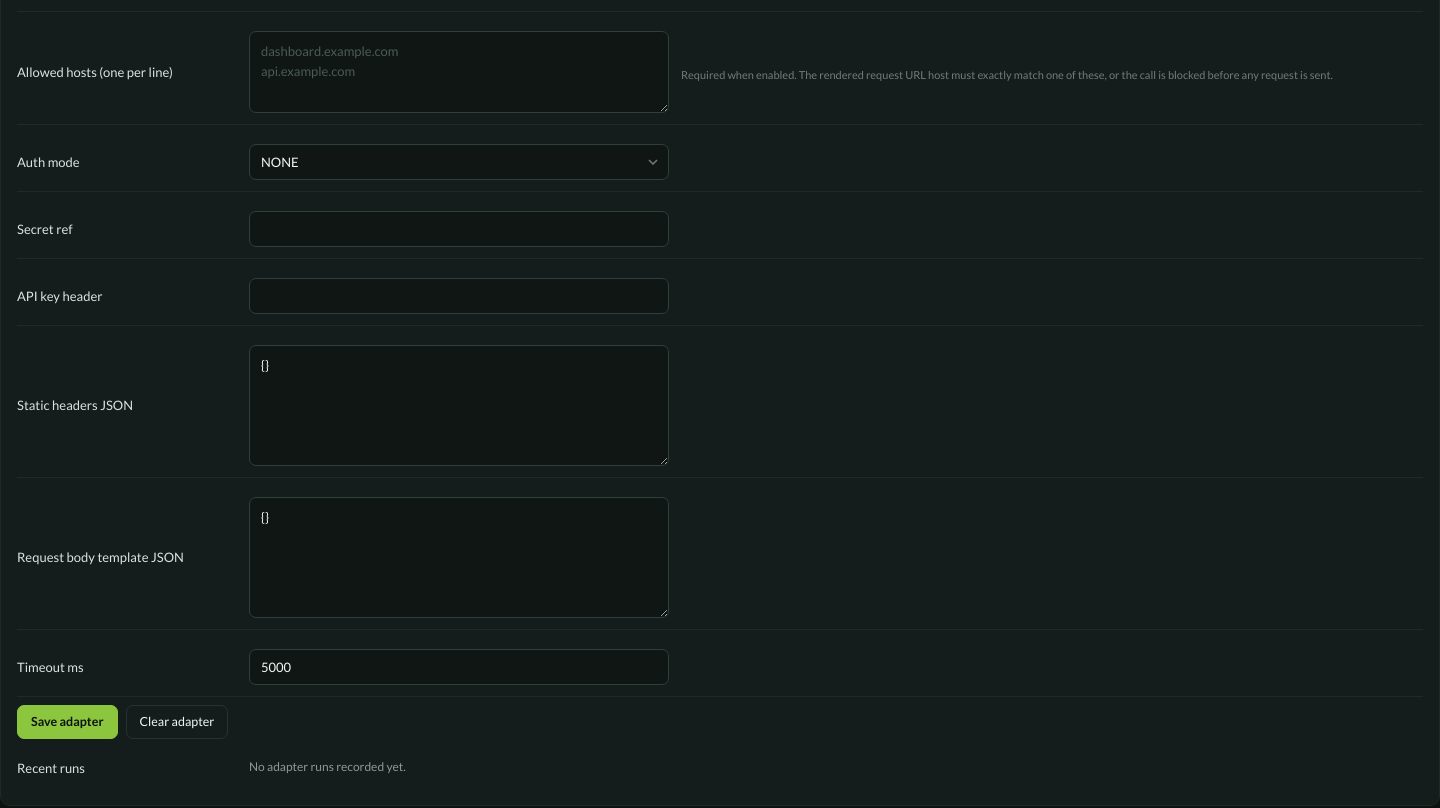
Test case: Tools › blocks invalid adapter headers JSON before save
(page scrolled)
Replace the text in the text box labelled "Static headers JSON" with "[1,2,3]" at (459, 406), box top-left (249, 345), bottom-right (669, 466)
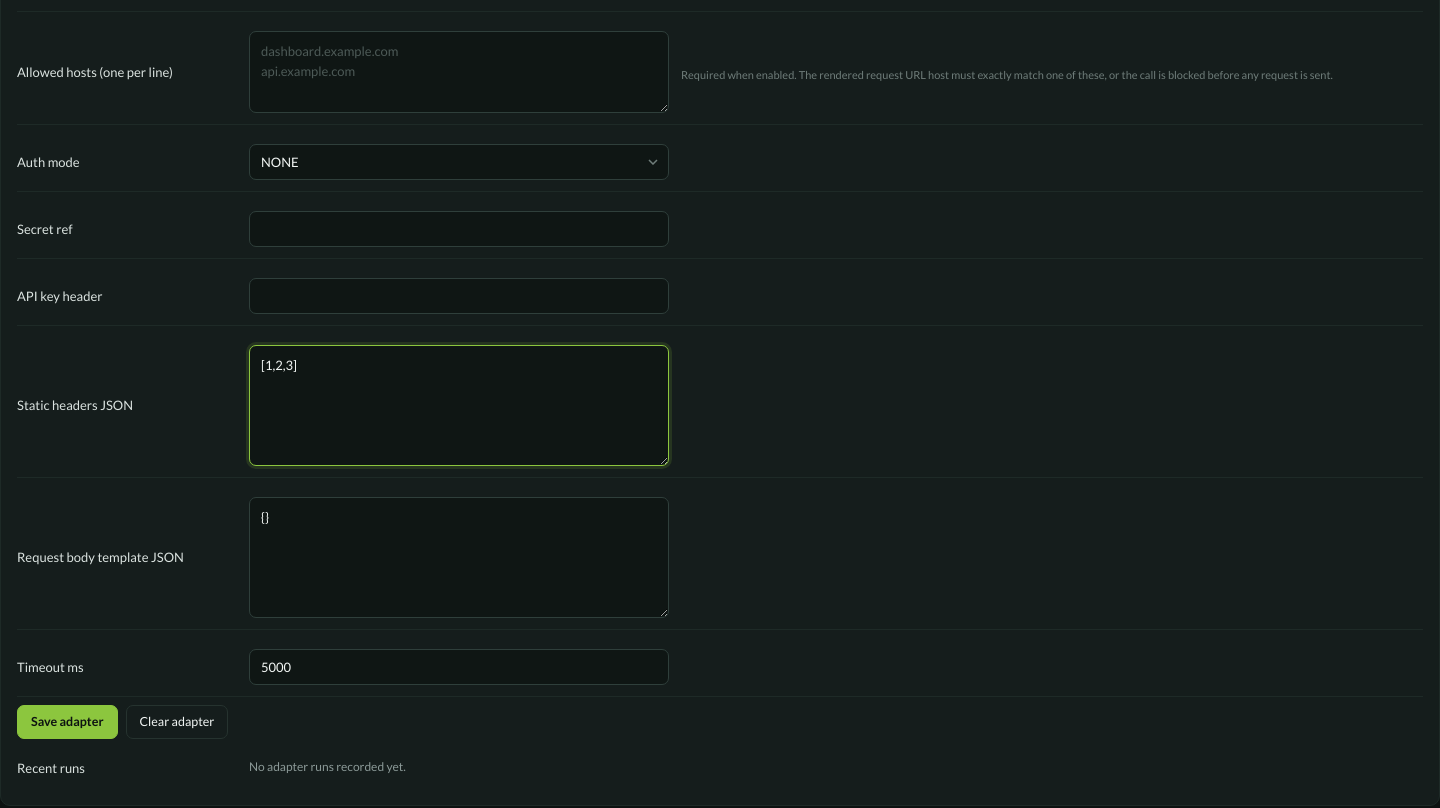
Click the button "Save adapter" at (67, 722), box top-left (17, 705), bottom-right (118, 739)
(page scrolled)
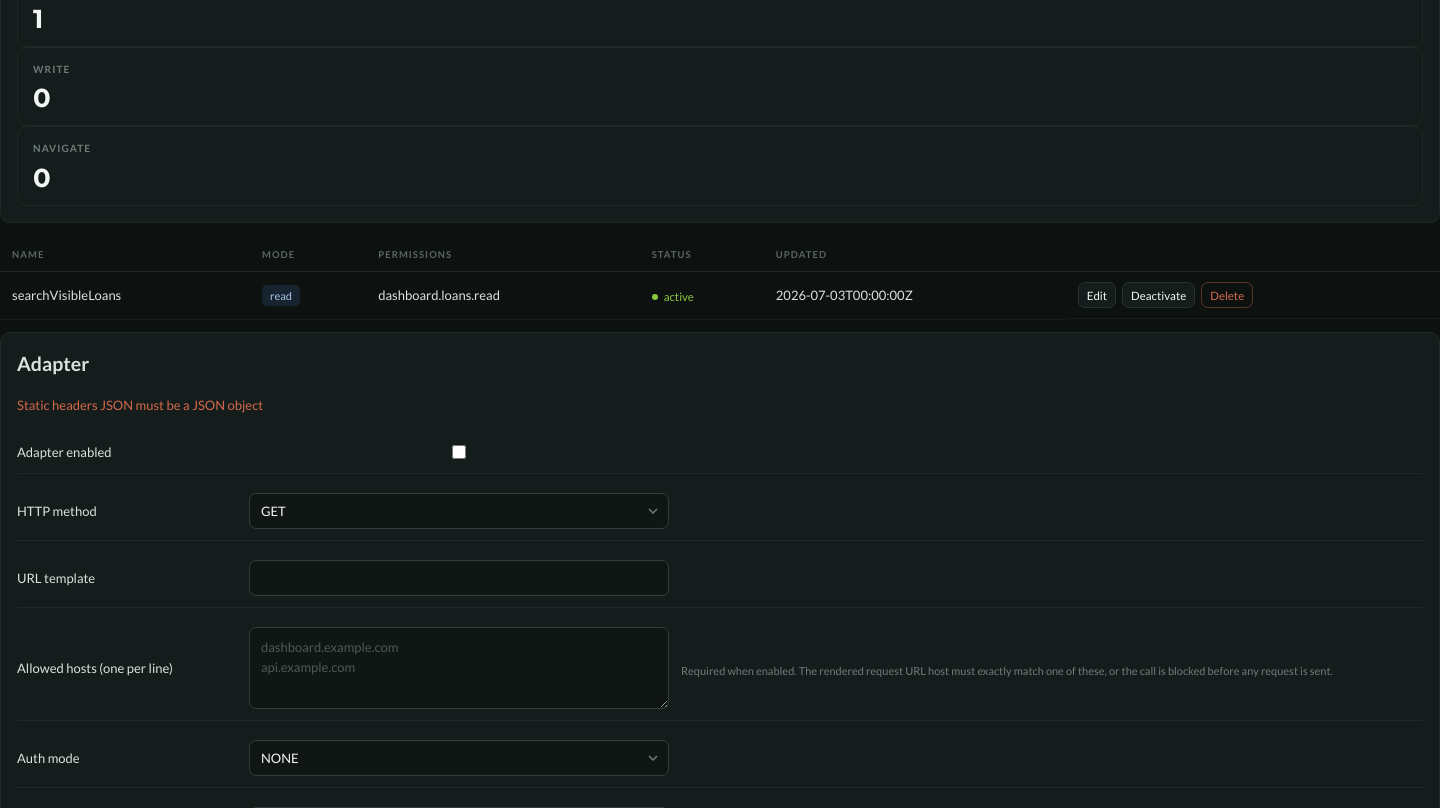
Check: the text "Static headers JSON must be a JSON object" is shown, box top-left (17, 397), bottom-right (263, 413)
